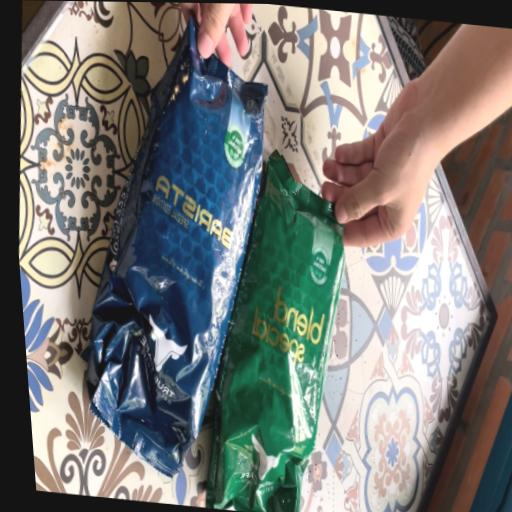cafe_hat: (87, 18, 266, 477)
cafe_xay: (205, 153, 343, 512)
